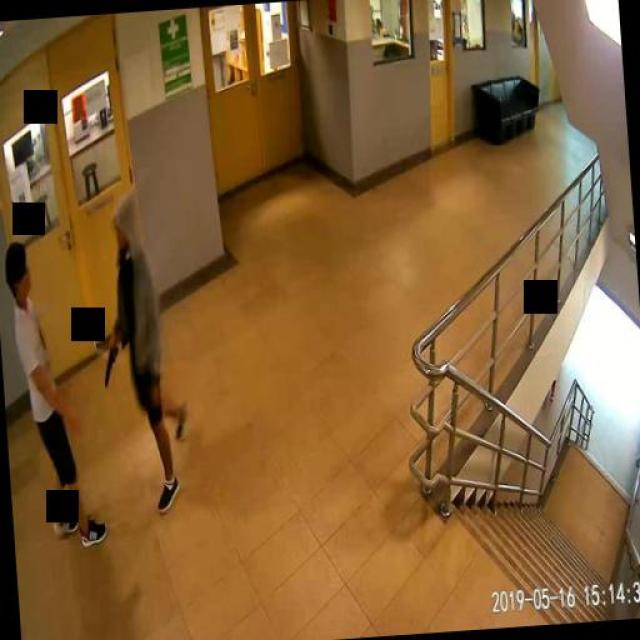gun: (101, 342, 120, 388)
